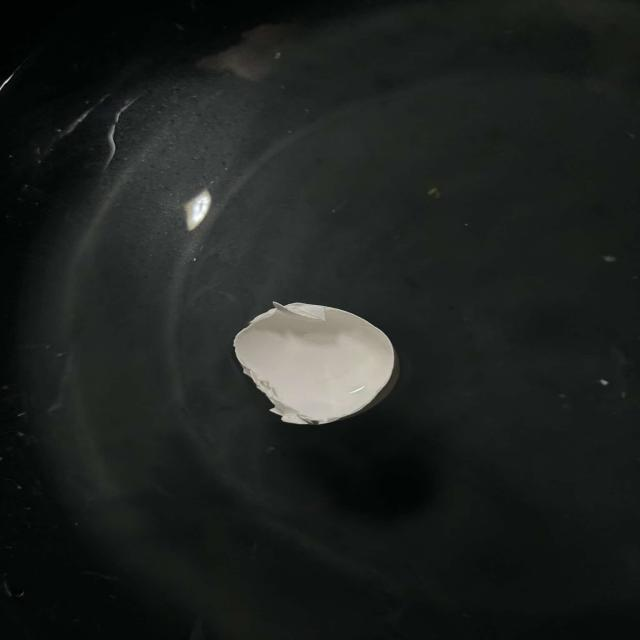Eggshell: (209, 284, 425, 454)
